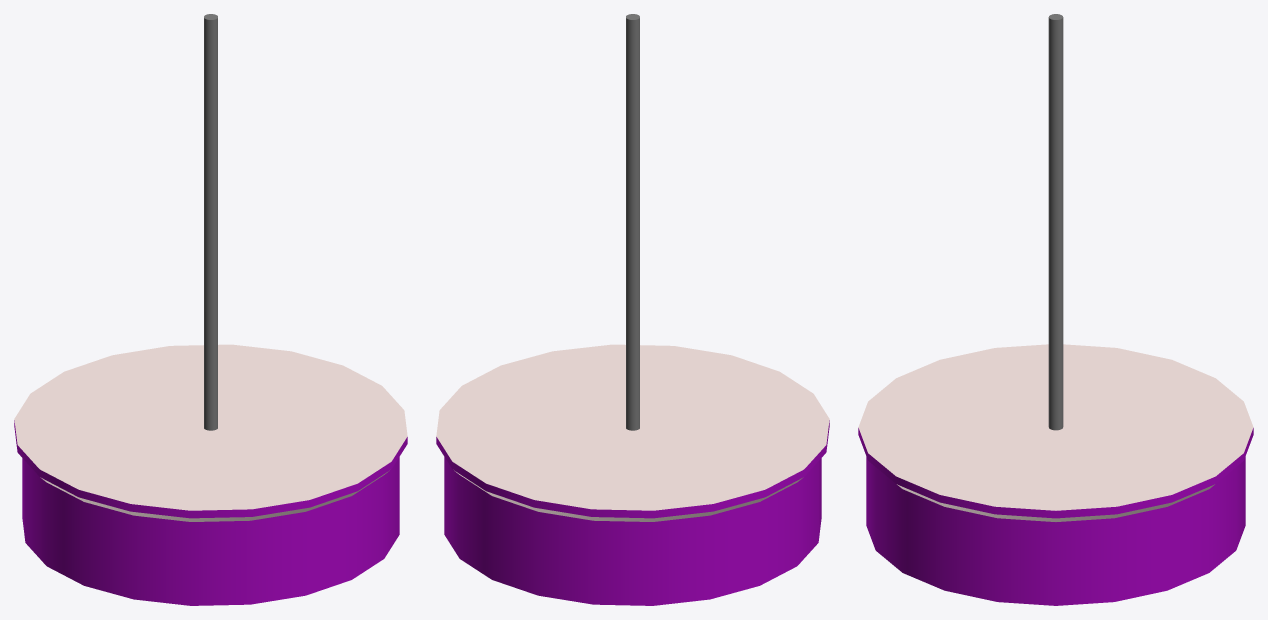
File: strip_pole_small.FBX
3 views of the same model, side by side, from view 1: azimuth 30°, elevation 25°; view 2: azimuth 150°, elevation 25°; view 3: azimuth 270°, elevation 25° (orthographic).
Parts seen in each view (by area): view 1: stripping_pole; view 2: stripping_pole; view 3: stripping_pole.
Boxes of the visible parts, x1=… form: stripping_pole: x1=14, y1=14, x2=407, y2=605; stripping_pole: x1=436, y1=14, x2=829, y2=605; stripping_pole: x1=858, y1=14, x2=1253, y2=605.
Bounding box in the file's own units: 96.5 × 137 × 96.5.
